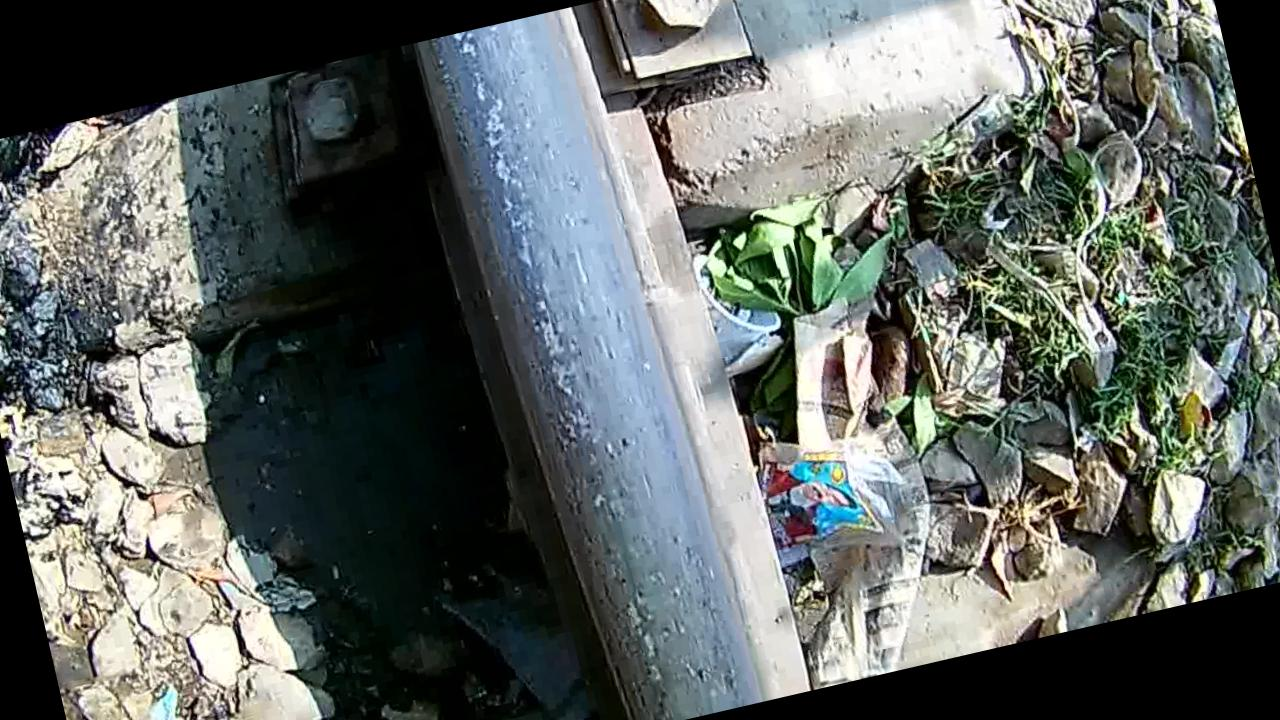clip_missing: (408, 2, 750, 720)
